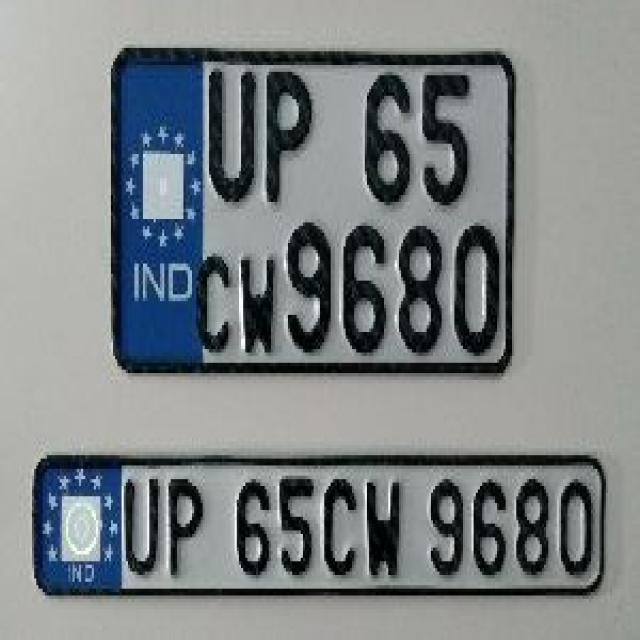plate: (110, 47, 512, 374), (34, 454, 606, 597)
